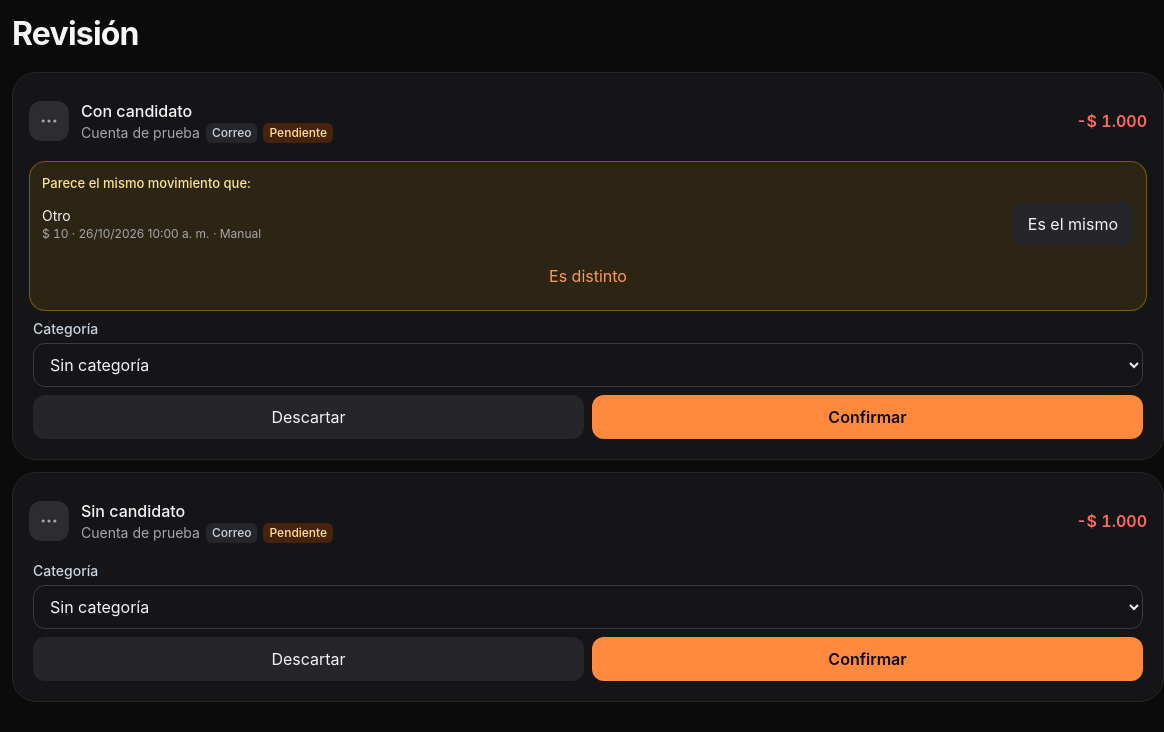
review inbox › lets the person say it is a different movement, and shows nothing when there is no candidate
Expected: the text "Parece el mismo movimiento que:" is shown once, [42,175,251,191]
Step 1. Click the button "Es distinto" → (588, 276), box [42,254,1134,298]
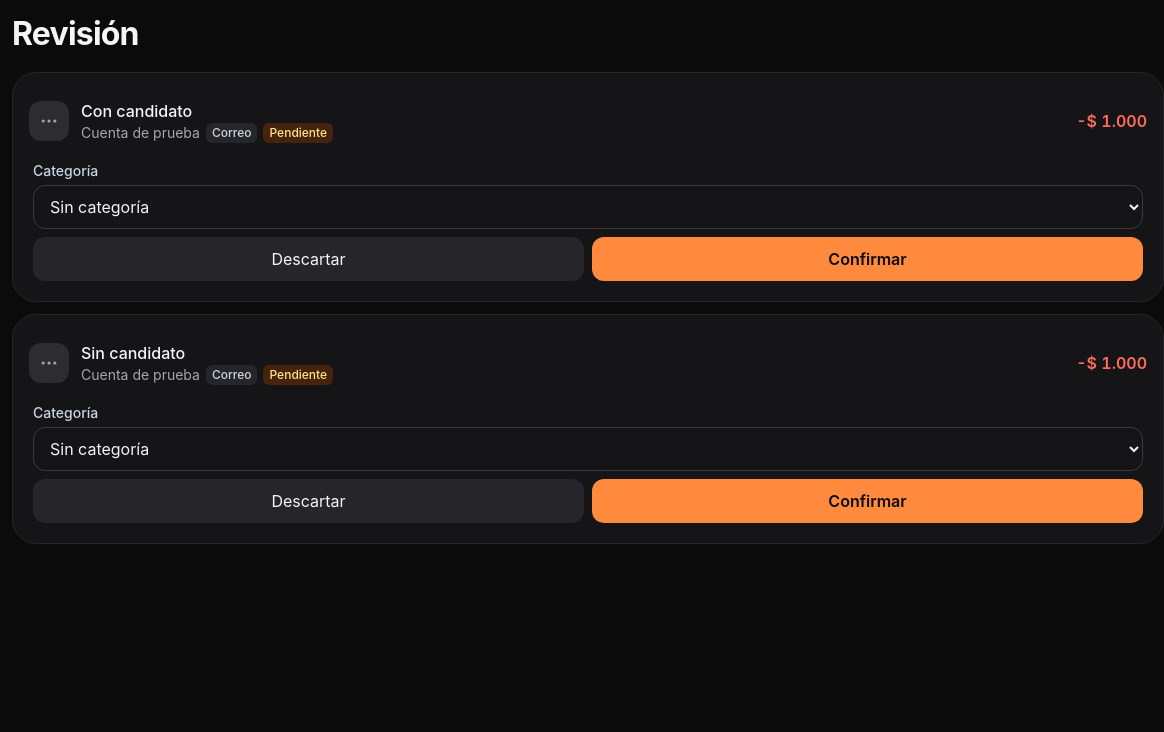
Expected: the text "el mismo movimiento que" is gone
